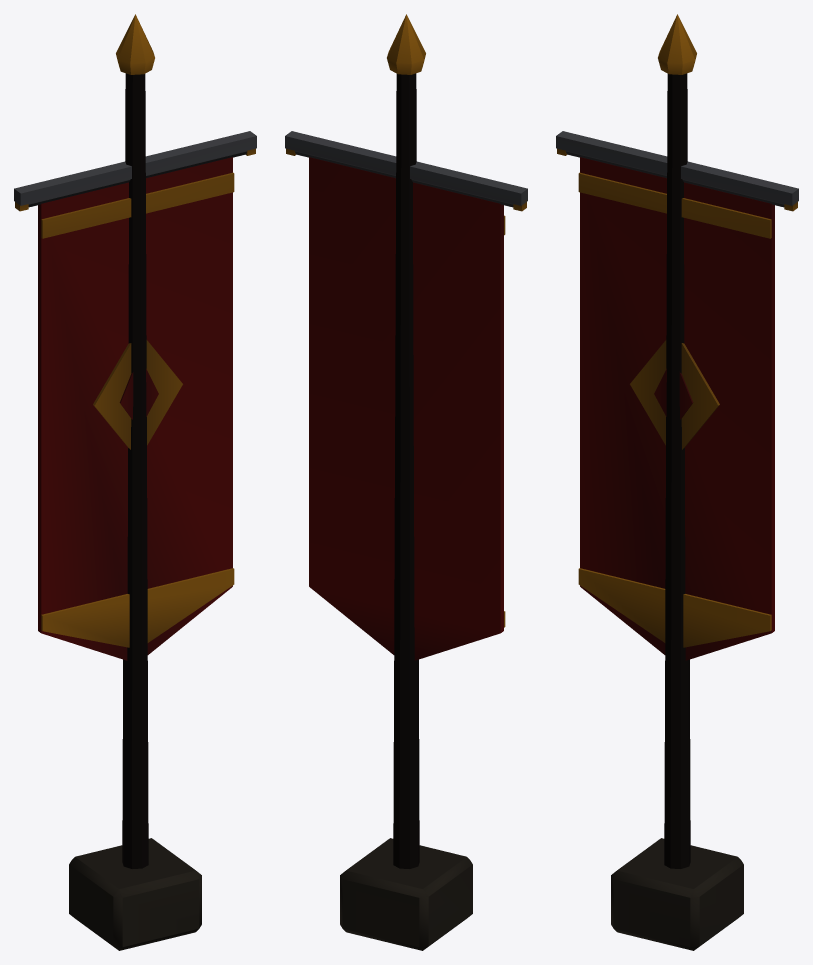
Rendered from Estandarte4.fbx.
3 renders of one model, left to right at view 1: azimuth 30°, elevation 25°; view 2: azimuth 150°, elevation 25°; view 3: azimuth 330°, elevation 25°, orthographic.
Visible parts, largest first — view 1: Estandarte4; view 2: Estandarte4; view 3: Estandarte4.
Boxes of the visible parts, x1=… form: Estandarte4: x1=14, y1=14, x2=256, y2=950; Estandarte4: x1=285, y1=14, x2=527, y2=950; Estandarte4: x1=556, y1=14, x2=798, y2=950.
Bounding box in the file's own units: 1.6 × 5.9 × 0.6.
